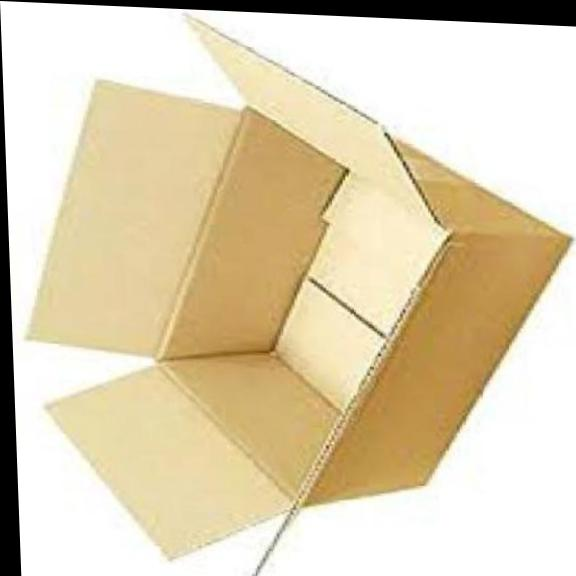Kertas: (29, 18, 568, 575)
